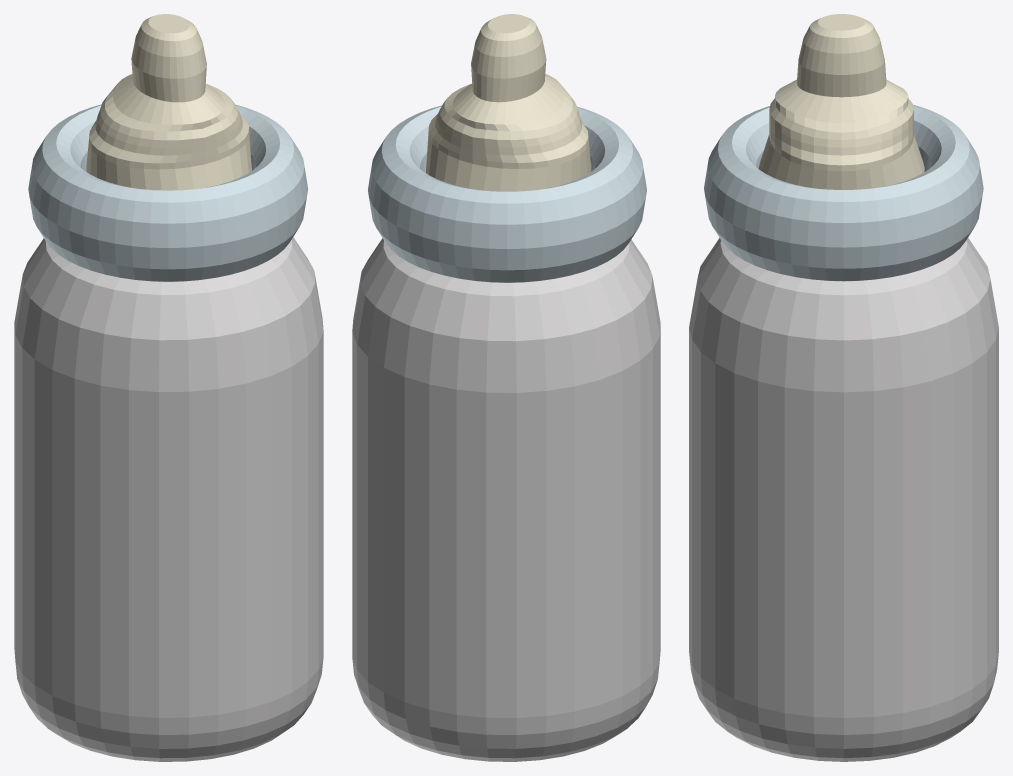
File: sise.fbx
3 renders of one model, left to right at view 1: azimuth 30°, elevation 25°; view 2: azimuth 150°, elevation 25°; view 3: azimuth 270°, elevation 25°, orthographic.
Visible parts, largest first — view 1: Cylinder, Cylinder.001, Cylinder.002; view 2: Cylinder, Cylinder.001, Cylinder.002; view 3: Cylinder, Cylinder.001, Cylinder.002.
Part boxes in pixels (<box>): Cylinder: <box>14,237,323,761</box>; Cylinder.001: <box>28,104,307,281</box>; Cylinder.002: <box>86,14,251,190</box>; Cylinder: <box>352,238,660,761</box>; Cylinder.001: <box>368,105,646,282</box>; Cylinder.002: <box>426,14,591,191</box>; Cylinder: <box>689,237,998,761</box>; Cylinder.001: <box>704,104,983,281</box>; Cylinder.002: <box>758,14,924,189</box>.
Size of the model in its own units: 244 by 598 by 244.
